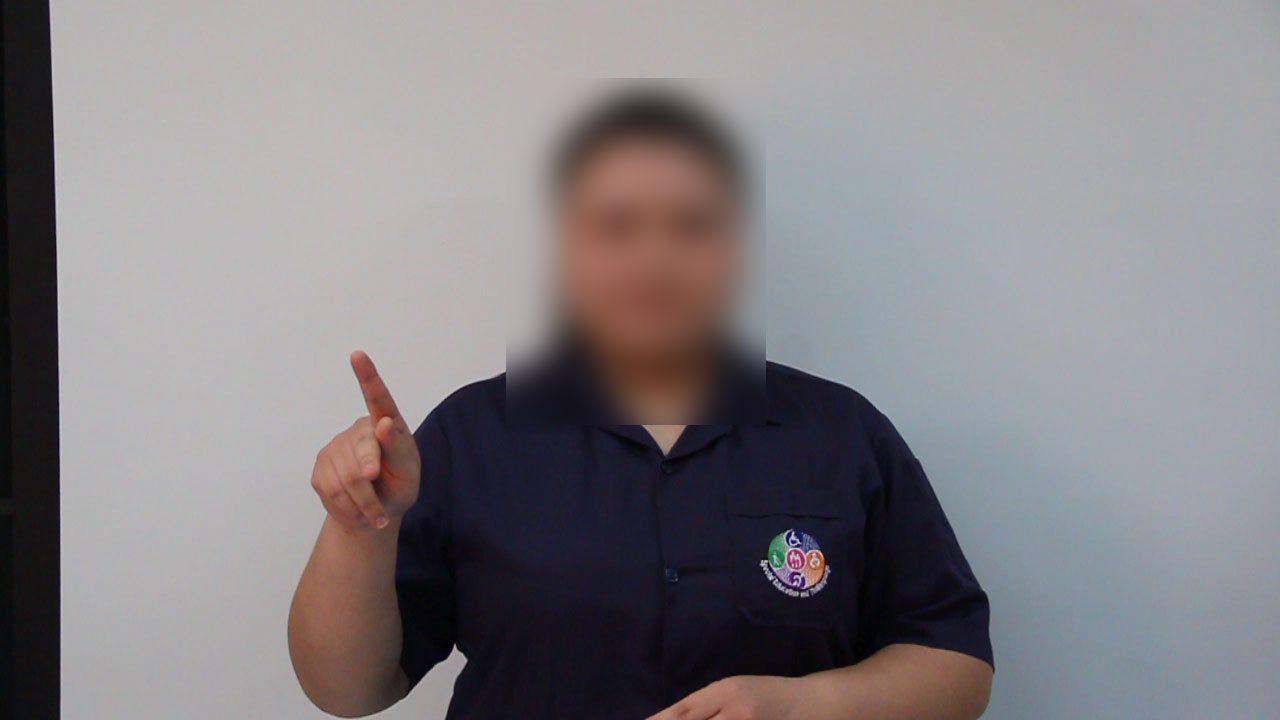ko: (274, 344, 457, 542)
